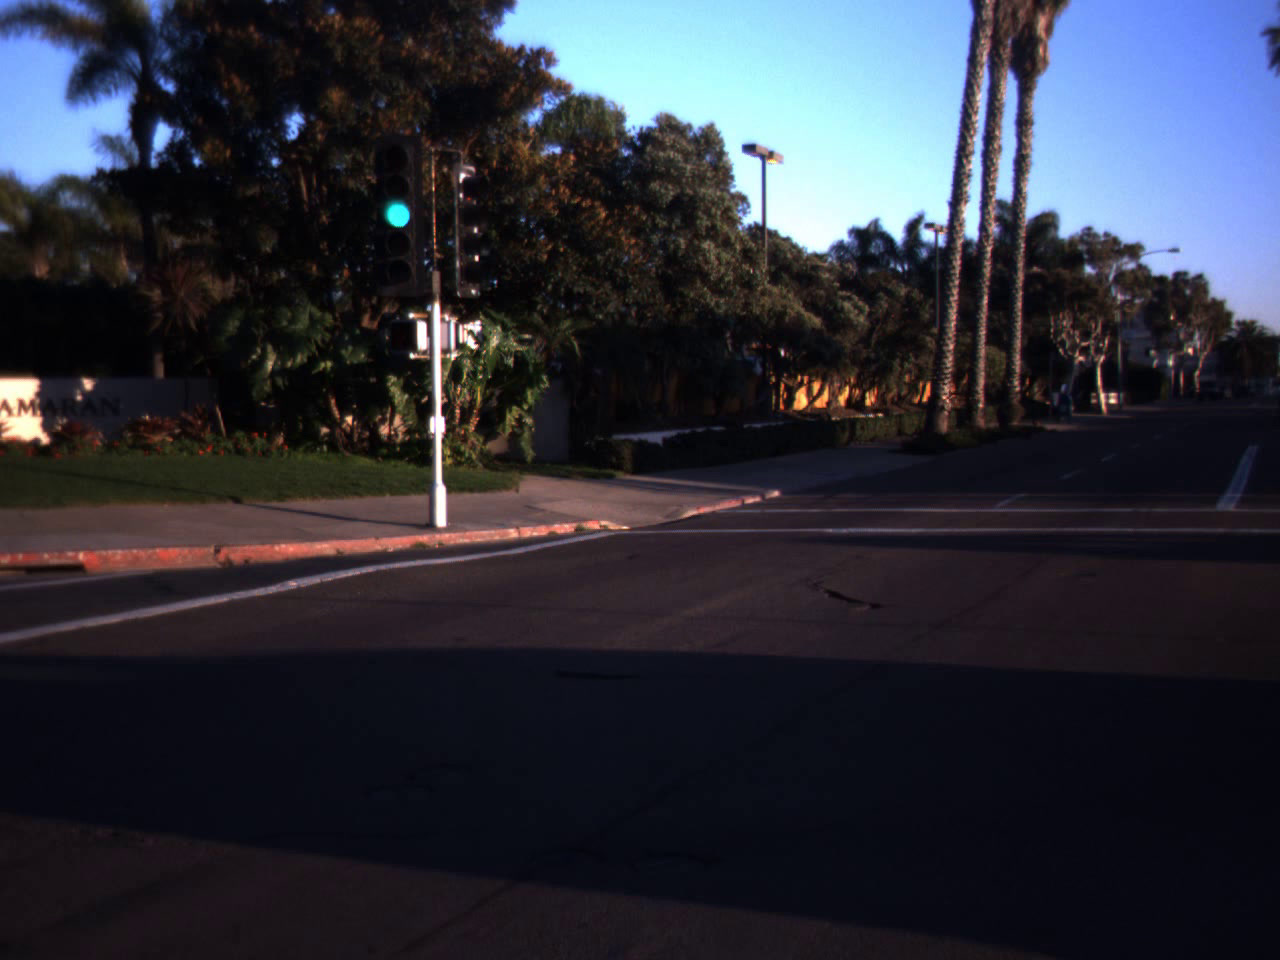go: (367, 127, 430, 237)
